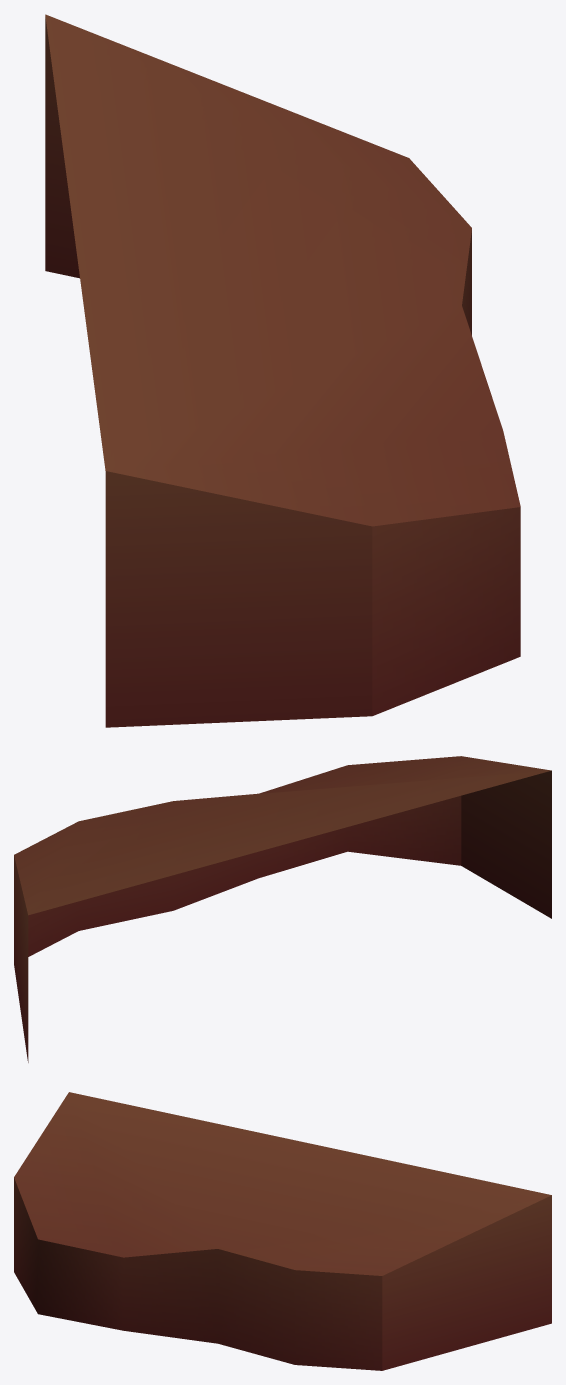
Rendered from Mountain_big.036.fbx.
3 views of the same model, one above another, from view 1: azimuth 30°, elevation 25°; view 2: azimuth 150°, elevation 25°; view 3: azimuth 270°, elevation 25° (orthographic). The views are drawn at different scales.
Visible parts, largest first — view 1: Mountain_big.036; view 2: Mountain_big.036; view 3: Mountain_big.036.
Part boxes in pixels (bbox=[...]): Mountain_big.036: bbox=[45, 14, 520, 727]; Mountain_big.036: bbox=[14, 756, 551, 1062]; Mountain_big.036: bbox=[14, 1092, 551, 1370].
Bounding box in the file's own units: 138 × 54.9 × 208.
